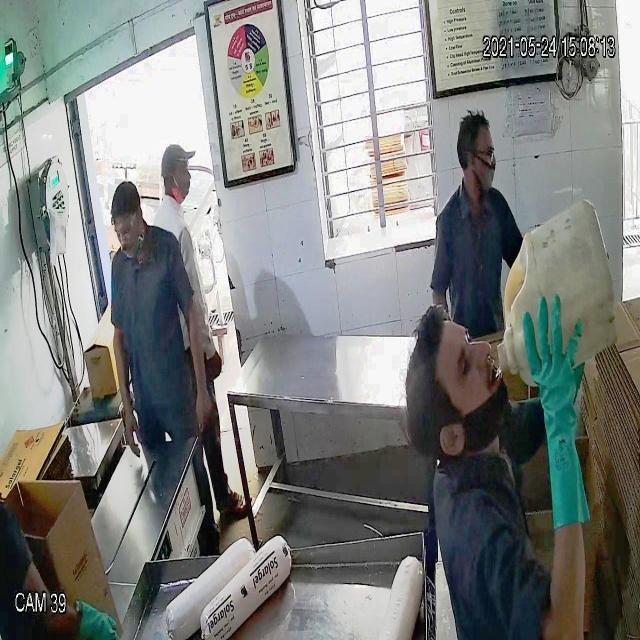Gafas: (110, 216, 140, 243)
Sin_gafas: (440, 298, 480, 452)
